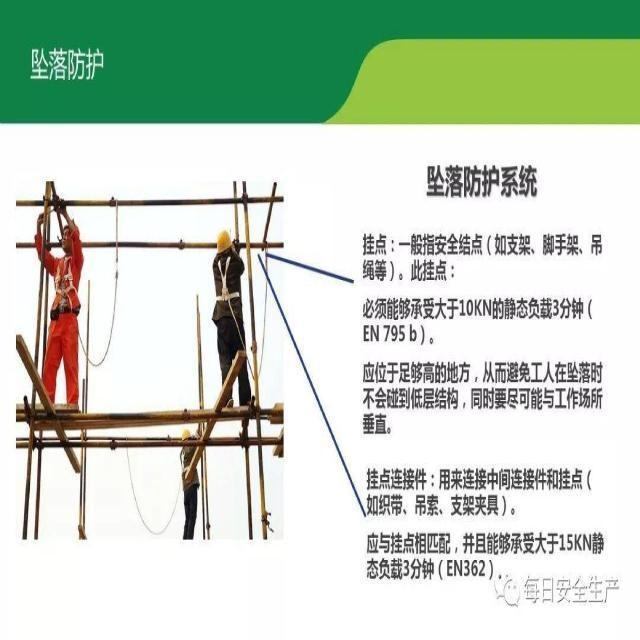Arnes_seguridad: (212, 254, 241, 308), (52, 249, 80, 303)
